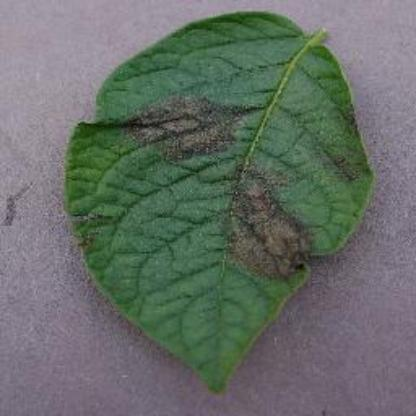Late-Blight: (47, 6, 390, 398)
